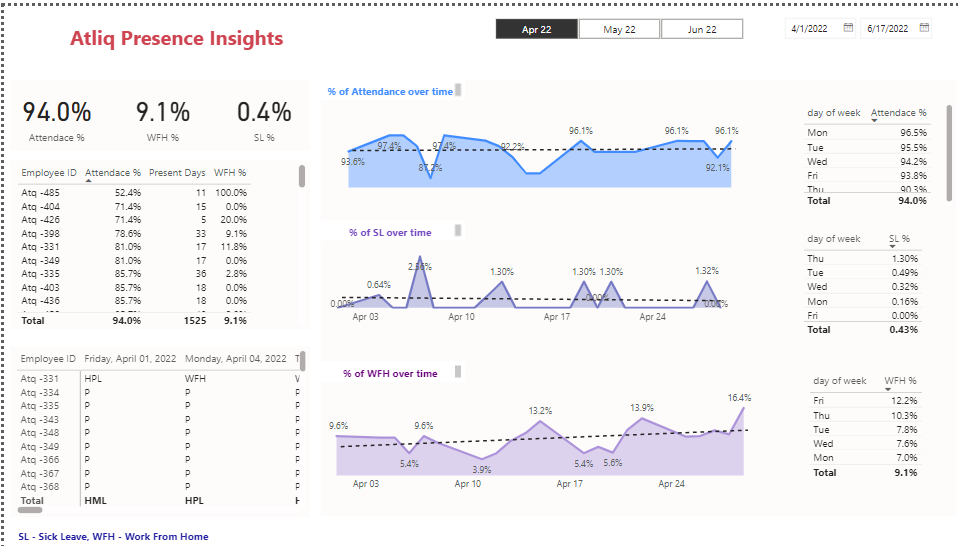

The dashboard page shown, as its layout file describes it:
{"tool":"powerbi","page":{"name":"Presence Insights","canvas":[1280,720],"ordinal":0},"visuals":[{"type":"textbox","box":[7.8,205.6,399.9,225.5],"z":0},{"type":"textbox","box":[7.8,453.3,399.8,227.6],"z":1000},{"type":"textbox","box":[422.3,97.9,848.1,582.3],"z":2000},{"type":"textbox","box":[7.8,98,399.9,95.4],"z":3000},{"type":"tableEx","fields":{"Values":["Final Data.Employee ID","Measures (2).Attendace %","Measures (2).Present Days","Measures (2).WFH %"]},"box":[12.6,205.2,394.9,225.7],"z":4000},{"type":"slicer","fields":{"Values":["Final Data.Date"]},"box":[1027.3,5.2,252.7,46.3],"z":5000},{"type":"slicer","fields":{"Values":["Final Data.MMM YY"]},"box":[630.4,10.5,379.5,35.8],"z":6000},{"type":"areaChart","fields":{"Category":["Final Data.MMM YY","Final Data.Date"],"Y":["Measures (2).WFH %"]},"box":[420.7,502.3,589,153.5],"z":7000},{"type":"areaChart","fields":{"Category":["Final Data.WeekNo","Final Data.Date"],"Y":["Measures (2).Attendace %"]},"box":[444.1,144.9,540.4,103.2],"z":8000},{"type":"card","fields":{"Values":["Measures (2).Attendace %"]},"box":[7.8,98,124,96.3],"z":9000},{"type":"card","fields":{"Values":["Measures (2).WFH %"]},"box":[141.4,98,138.8,96.3],"z":10000},{"type":"areaChart","fields":{"Category":["Final Data.MMM YY","Final Data.Date"],"Y":["Measures (2).SL %"]},"box":[422.5,307.1,556,124],"z":11000},{"type":"card","fields":{"Values":["Measures (2).SL %"]},"box":[286.3,97.2,121.4,96.3],"z":13000},{"type":"textbox","box":[70.3,0,320.1,71.1],"z":14000},{"type":"textbox","box":[422.4,98.2,192.5,27.5],"z":15000},{"type":"textbox","box":[422.5,286.3,192.6,26.9],"z":16000},{"type":"textbox","box":[422.1,473.7,192.6,27.2],"z":17000},{"type":"pivotTable","fields":{"Rows":["Final Data.Employee ID"],"Columns":["Final Data.Date"],"Values":["Min(Final Data.Value)"]},"box":[11.7,453.3,395.9,227.6],"z":18000},{"type":"textbox","box":[13.6,691.6,289.8,28.2],"z":19000},{"type":"tableEx","fields":{"Values":["Final Data.day of week","Measures (2).Attendace %"]},"box":[1060.9,125.8,209.9,145.7],"z":20000},{"type":"tableEx","fields":{"Values":["Final Data.day of week","Measures (2).SL %"]},"box":[1060.9,294.1,191.7,167.4],"z":21000},{"type":"tableEx","fields":{"Values":["Final Data.day of week","Measures (2).WFH %"]},"box":[1068.7,483.2,170,167.4],"z":22000}]}

Visuals, with their boxes in screenshot pixels (x1, y1, x2, y2), scaled from the page's 1280x720 canvas onto the 961x546 screenshot:
textbox: <bbox>6, 156, 306, 327</bbox>
textbox: <bbox>6, 344, 306, 516</bbox>
textbox: <bbox>317, 74, 954, 516</bbox>
textbox: <bbox>6, 74, 306, 147</bbox>
tableEx - Final Data.Employee ID x Measures (2).Attendace %: <bbox>9, 156, 306, 327</bbox>
slicer - Final Data.Date: <bbox>771, 4, 960, 39</bbox>
slicer - Final Data.MMM YY: <bbox>473, 8, 758, 35</bbox>
areaChart - Final Data.MMM YY x Final Data.Date: <bbox>316, 381, 758, 497</bbox>
areaChart - Final Data.WeekNo x Final Data.Date: <bbox>333, 110, 739, 188</bbox>
card - Measures (2).Attendace %: <bbox>6, 74, 99, 147</bbox>
card - Measures (2).WFH %: <bbox>106, 74, 210, 147</bbox>
areaChart - Final Data.MMM YY x Final Data.Date: <bbox>317, 233, 735, 327</bbox>
card - Measures (2).SL %: <bbox>215, 74, 306, 147</bbox>
textbox: <bbox>53, 0, 293, 54</bbox>
textbox: <bbox>317, 74, 462, 95</bbox>
textbox: <bbox>317, 217, 462, 238</bbox>
textbox: <bbox>317, 359, 462, 380</bbox>
pivotTable - Final Data.Employee ID x Final Data.Date: <bbox>9, 344, 306, 516</bbox>
textbox: <bbox>10, 524, 228, 545</bbox>
tableEx - Final Data.day of week x Measures (2).Attendace %: <bbox>797, 95, 954, 206</bbox>
tableEx - Final Data.day of week x Measures (2).SL %: <bbox>797, 223, 940, 350</bbox>
tableEx - Final Data.day of week x Measures (2).WFH %: <bbox>802, 366, 930, 493</bbox>
